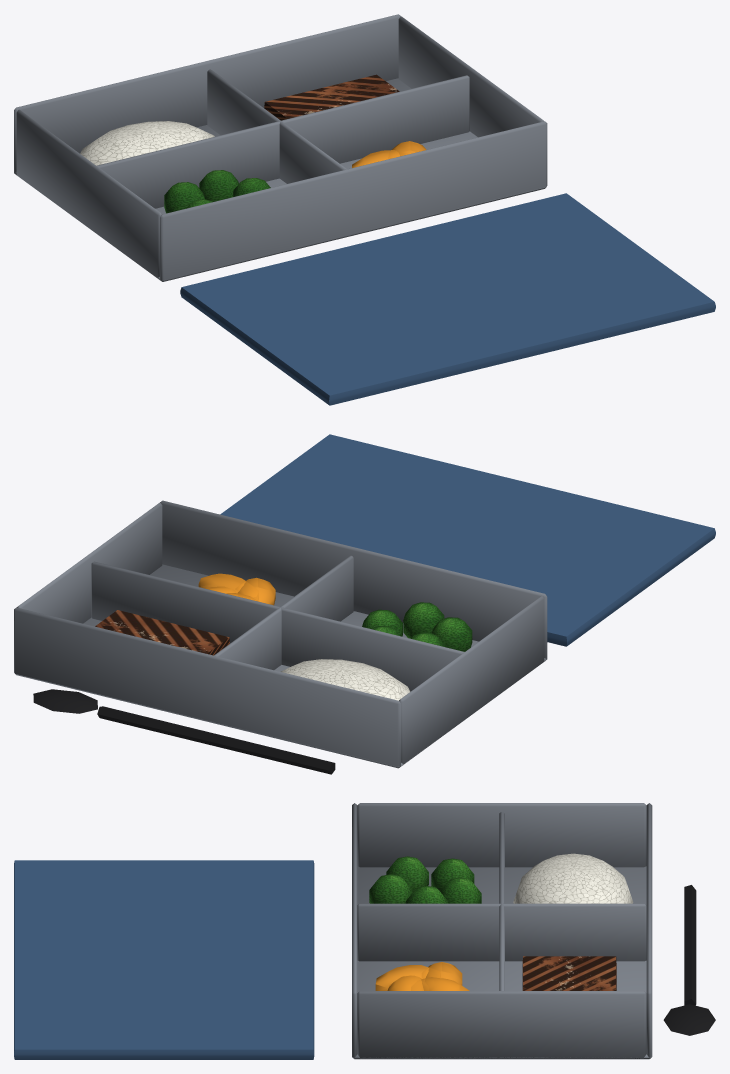
Rendered from ration_bento_ration_box.glb.
3 renders of one model, top to bottom at view 1: azimuth 30°, elevation 25°; view 2: azimuth 150°, elevation 25°; view 3: azimuth 270°, elevation 25°, orthographic.
Visible parts, largest first — view 1: ration_bento_ration_box; view 2: ration_bento_ration_box; view 3: ration_bento_ration_box.
Part boxes in pixels (x1,y1,x2,y2): ration_bento_ration_box: [14, 14, 715, 405]; ration_bento_ration_box: [14, 434, 715, 774]; ration_bento_ration_box: [14, 803, 715, 1059].
Bounding box in the file's own units: 0.24 × 0.051 × 0.374.
7 materials, 3 textured.
